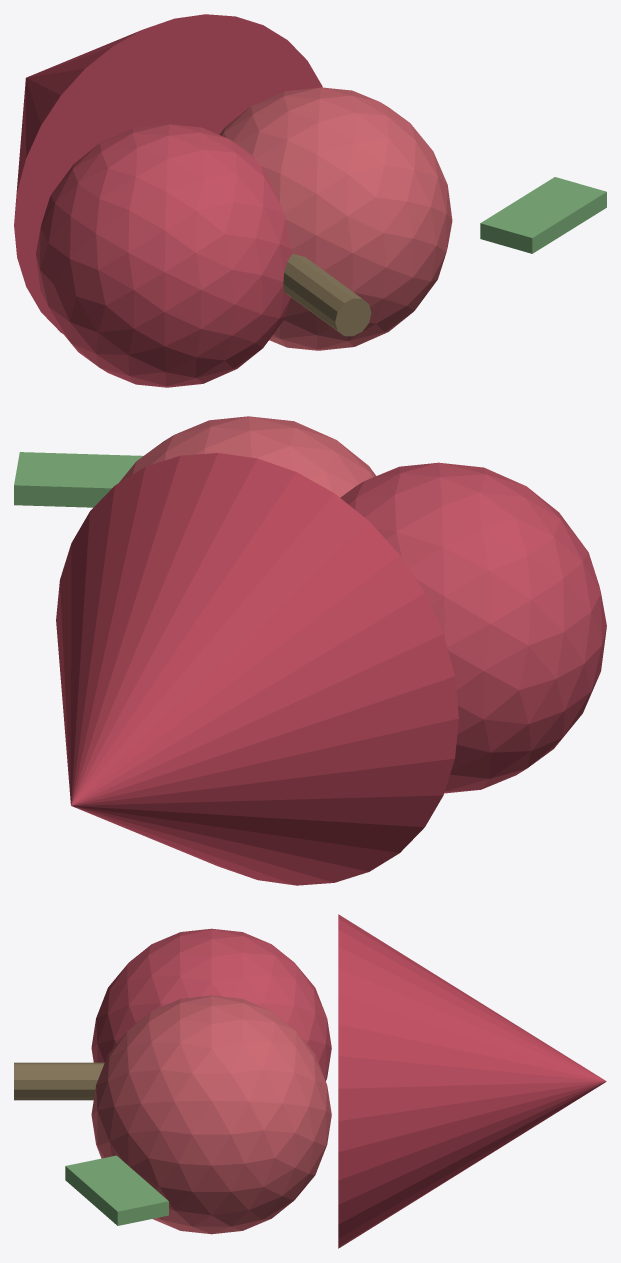
File: heartfruit_blockout.glb
3 views of the same model, one above another, from view 1: azimuth 30°, elevation 25°; view 2: azimuth 150°, elevation 25°; view 3: azimuth 270°, elevation 25° (orthographic). The views are drawn at different scales.
Visible parts, largest first — view 1: heartfruit_blockout_0, heartfruit_blockout_1, heartfruit_blockout_2, heartfruit_blockout_4, heartfruit_blockout_3; view 2: heartfruit_blockout_2, heartfruit_blockout_0, heartfruit_blockout_1, heartfruit_blockout_4; view 3: heartfruit_blockout_2, heartfruit_blockout_1, heartfruit_blockout_0, heartfruit_blockout_4, heartfruit_blockout_3.
Boxes of the visible parts, bbox=[...] form: heartfruit_blockout_0: bbox=[36, 124, 292, 387]; heartfruit_blockout_1: bbox=[219, 87, 452, 350]; heartfruit_blockout_2: bbox=[14, 14, 322, 333]; heartfruit_blockout_4: bbox=[480, 177, 606, 253]; heartfruit_blockout_3: bbox=[283, 254, 371, 336]; heartfruit_blockout_2: bbox=[56, 453, 458, 885]; heartfruit_blockout_0: bbox=[340, 462, 606, 793]; heartfruit_blockout_1: bbox=[119, 416, 375, 497]; heartfruit_blockout_4: bbox=[14, 452, 142, 507]; heartfruit_blockout_2: bbox=[338, 914, 606, 1248]; heartfruit_blockout_1: bbox=[91, 995, 331, 1234]; heartfruit_blockout_0: bbox=[91, 928, 331, 1080]; heartfruit_blockout_4: bbox=[65, 1155, 168, 1225]; heartfruit_blockout_3: bbox=[14, 1062, 104, 1100].
Size of the model in its own units: 1.66 by 1.06 by 1.88.
